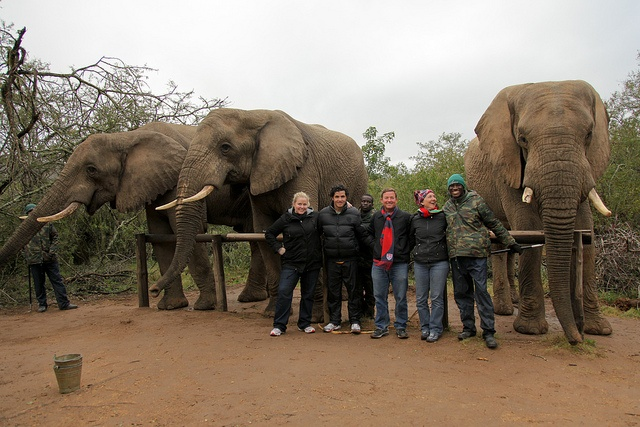elephant: (1, 122, 267, 312), (147, 107, 369, 317), (461, 79, 615, 350)
